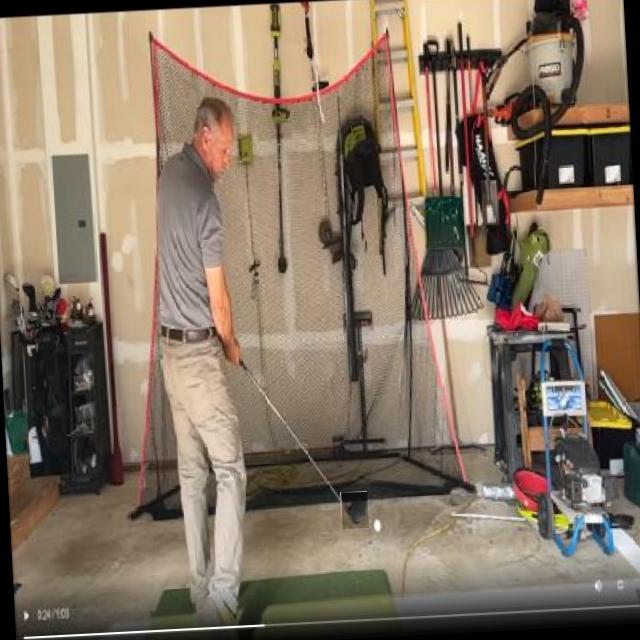club head: (340, 491, 369, 529)
